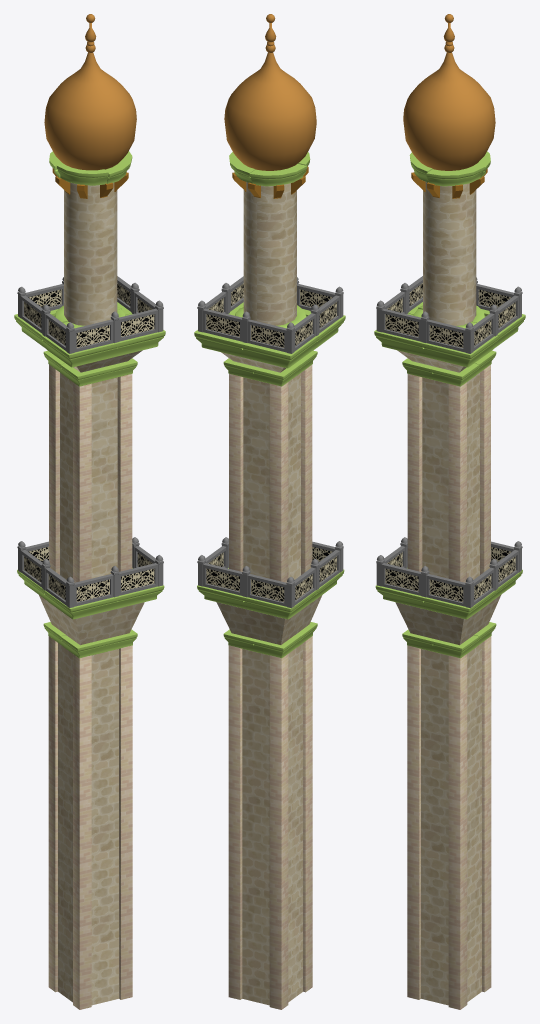
File: SM_minaret_01.fbx
The picture shows the model from 3 angles, left to right: view 1: azimuth 30°, elevation 25°; view 2: azimuth 150°, elevation 25°; view 3: azimuth 330°, elevation 25°; orthographic projection.
Parts seen in each view (by area): view 1: Object33158; view 2: Object33158; view 3: Object33158.
Part boxes in pixels (x1,y1,x2,y2): Object33158: (14,14,165,1009); Object33158: (194,14,345,1009); Object33158: (374,14,525,1009).
Size of the model in its own units: 176 by 1689 by 173.
